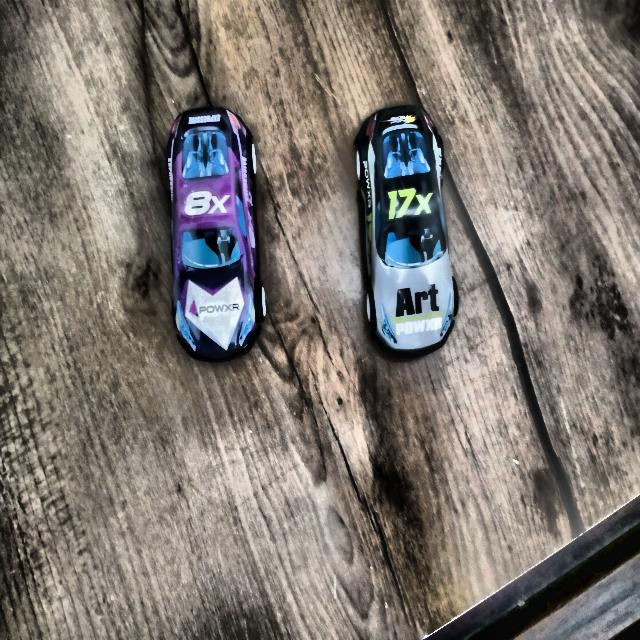Car: (348, 104, 478, 368), (162, 108, 270, 369)
